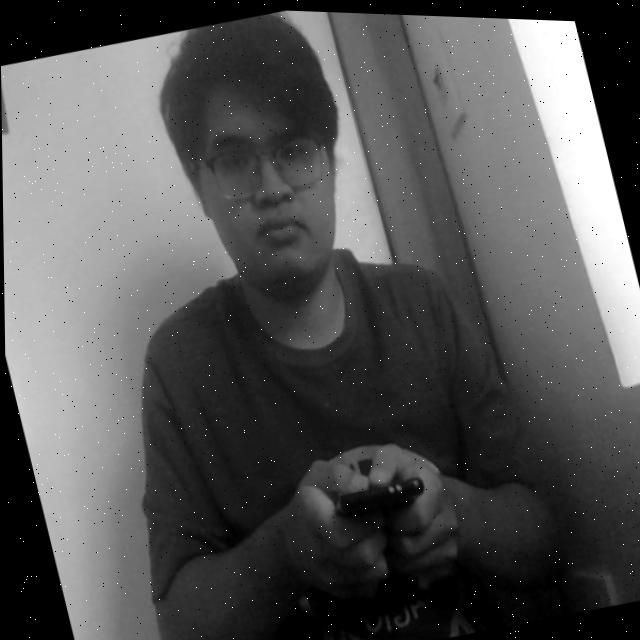phone: (292, 429, 448, 560)
